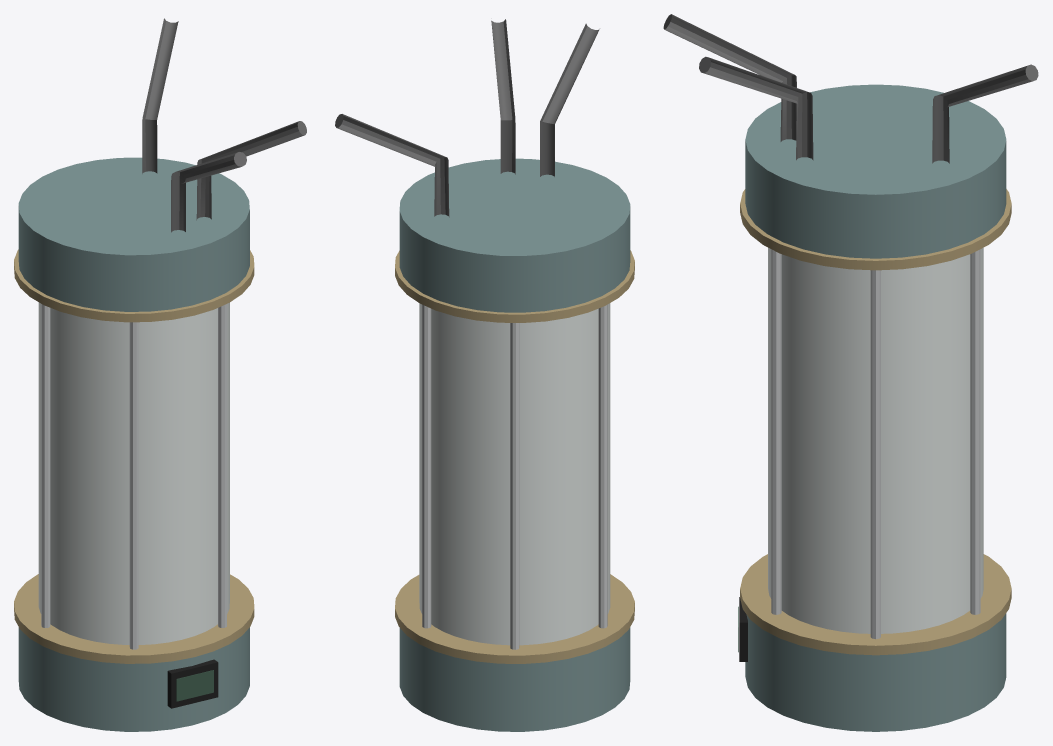
File: containment_tank.glb
3 views of the same model, side by side, from view 1: azimuth 30°, elevation 25°; view 2: azimuth 150°, elevation 25°; view 3: azimuth 270°, elevation 25° (orthographic). The views are drawn at different scales.
Parts seen in each view (by area): view 1: containment_tank; view 2: containment_tank; view 3: containment_tank.
Boxes of the visible parts, box(x1,y1,x2,y2) form: containment_tank: box(14, 18, 306, 731); containment_tank: box(335, 19, 634, 731); containment_tank: box(663, 14, 1038, 731).
Size of what is drawn, in the model's own units: 1.62 by 4.24 by 2.15.
